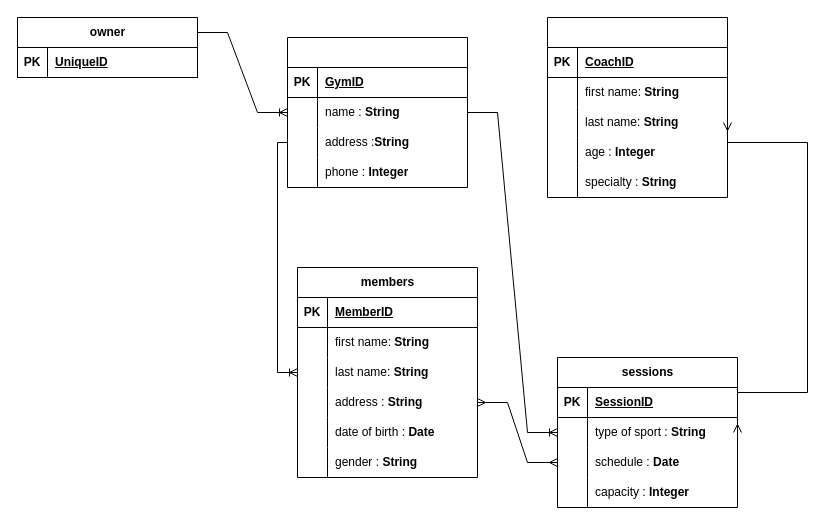
The diagram is 834 pixels wide and 525 high, and some of its shapes have lost their labels. The box of each missing label's shape, as (x1, y1, x2, y2) in pixels:
coaches: (546, 16, 728, 198)
gymnasiums: (286, 36, 468, 188)
